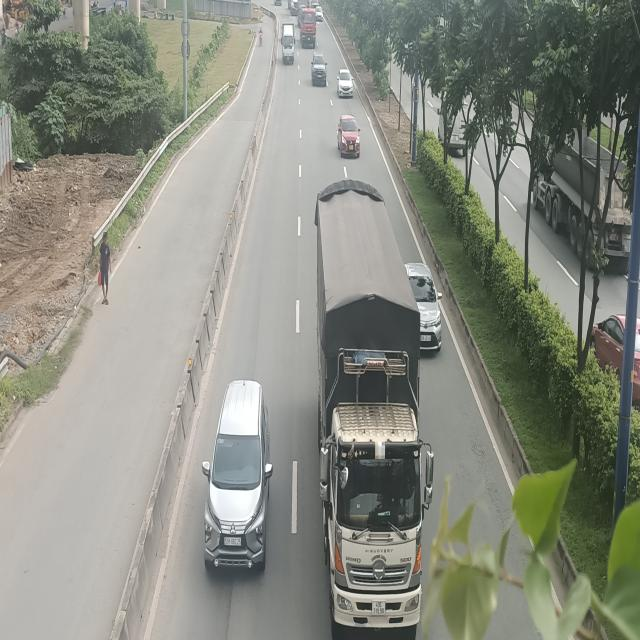car: (202, 380, 272, 574), (405, 261, 443, 351), (337, 115, 361, 158), (311, 53, 328, 86), (336, 69, 354, 97)
truck: (314, 177, 434, 638), (281, 18, 295, 64), (301, 9, 316, 49)
